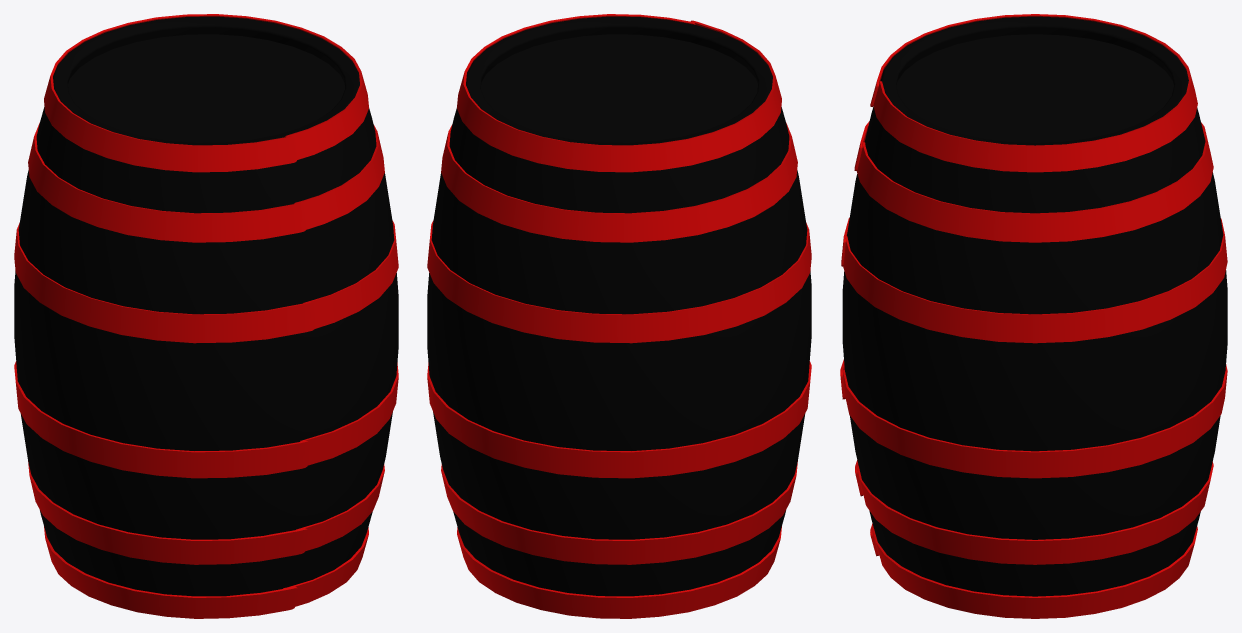
The model's file is SM_Barrel.fbx.
The picture shows the model from 3 angles, left to right: view 1: azimuth 30°, elevation 25°; view 2: azimuth 150°, elevation 25°; view 3: azimuth 270°, elevation 25°; orthographic projection.
Visible parts, largest first — view 1: polySurface10; view 2: polySurface10; view 3: polySurface10.
Boxes of the visible parts, x1,y1,x2,y2 form: polySurface10: (14,14,398,618); polySurface10: (427,14,811,618); polySurface10: (840,14,1227,618).
Size of the model in its own units: 60.09 by 81.48 by 60.47.
